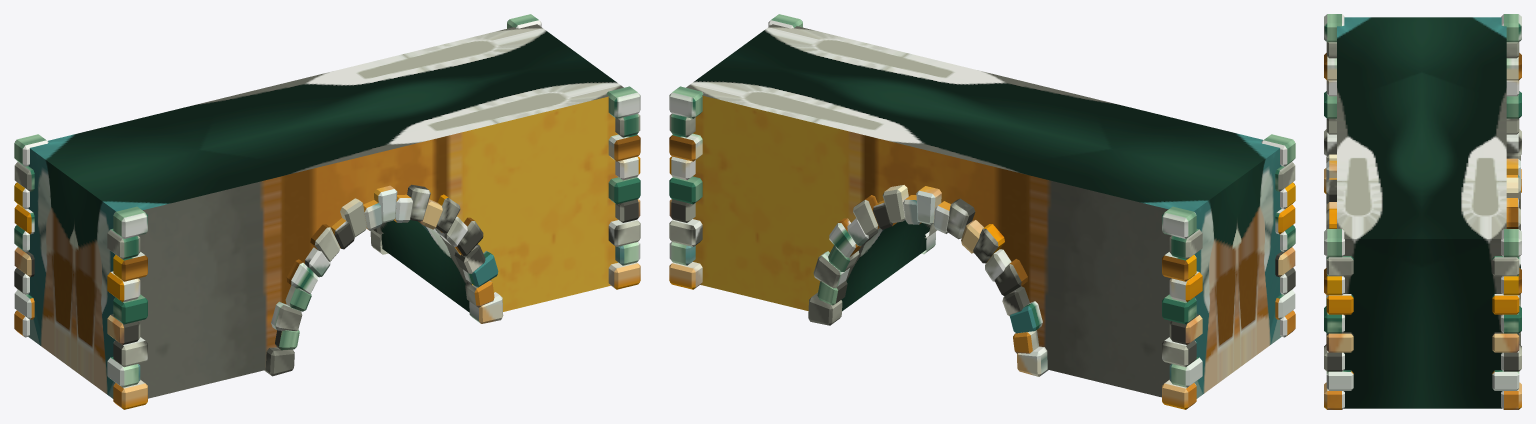
Rendered from WindmillHouseRockBridge.fbx.
3 renders of one model, left to right at view 1: azimuth 30°, elevation 25°; view 2: azimuth 150°, elevation 25°; view 3: azimuth 270°, elevation 25°, orthographic. The views are drawn at different scales.
Parts seen in each view (by area): view 1: RockBridge, RockBridgeFrontRocks_low; view 2: RockBridge, RockBridgeFrontRocks_low; view 3: RockBridge, RockBridgeFrontRocks_low.
Boxes of the visible parts, x1,y1,x2,y2 form: RockBridge: (28, 24, 623, 398); RockBridgeFrontRocks_low: (14, 14, 640, 409); RockBridge: (686, 24, 1281, 398); RockBridgeFrontRocks_low: (669, 14, 1295, 409); RockBridge: (1337, 17, 1506, 408); RockBridgeFrontRocks_low: (1324, 14, 1521, 409).
Bounding box in the file's own units: 10.39 × 3.74 × 3.82.
